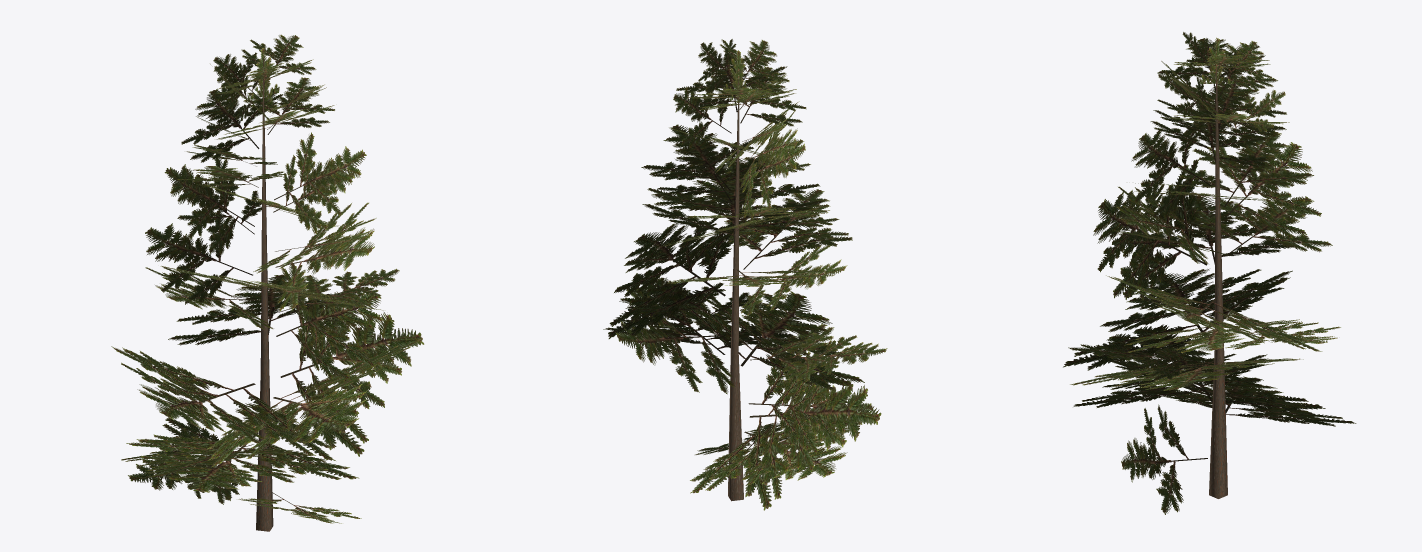
The model's file is fir_small_a_lod5.gltf.
The picture shows the model from 3 angles, left to right: view 1: azimuth 30°, elevation 25°; view 2: azimuth 150°, elevation 25°; view 3: azimuth 270°, elevation 25°; orthographic projection. The views are drawn at different scales.
Visible parts, largest first — view 1: fir_small_a_LOD5; view 2: fir_small_a_LOD5; view 3: fir_small_a_LOD5.
Part boxes in pixels (box(x1,y1,x2,y2)): fir_small_a_LOD5: box(111, 34, 424, 531); fir_small_a_LOD5: box(603, 39, 887, 510); fir_small_a_LOD5: box(1063, 32, 1356, 514).
Bounding box in the file's own units: 8.91 × 11.45 × 9.28.
Materials: 2 (2 with a texture image).
